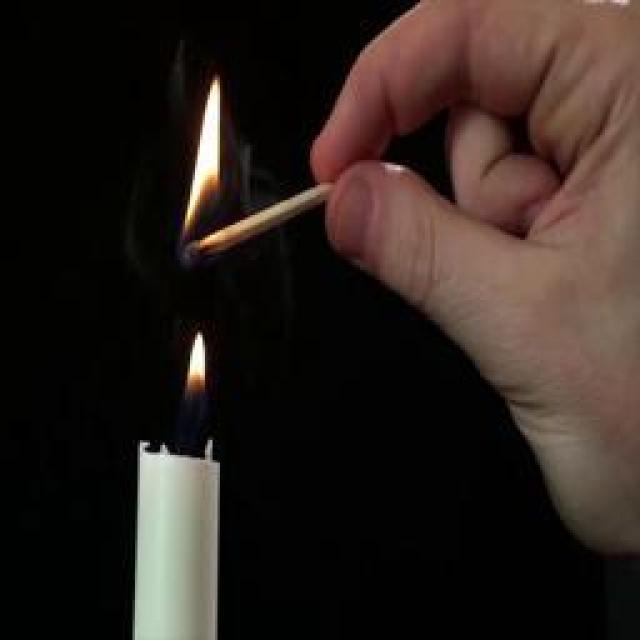Fire: (185, 78, 225, 242), (186, 332, 206, 396)
